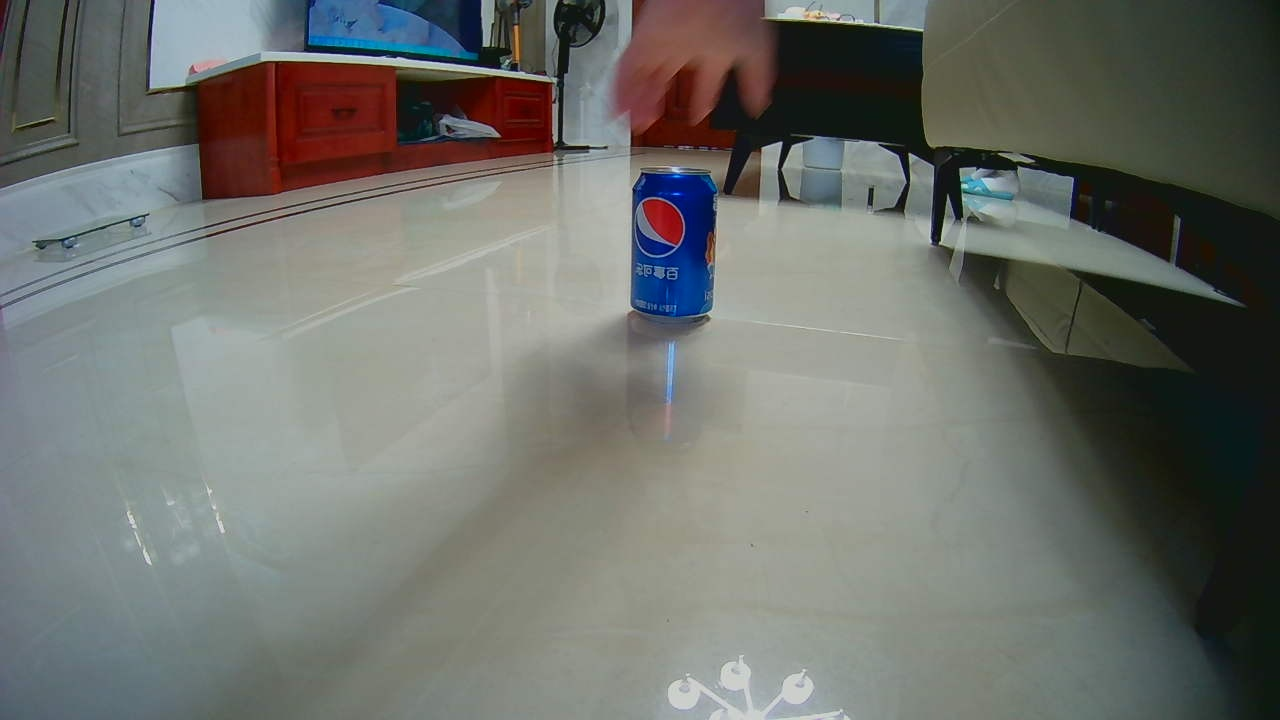pessi: (631, 165, 718, 321)
